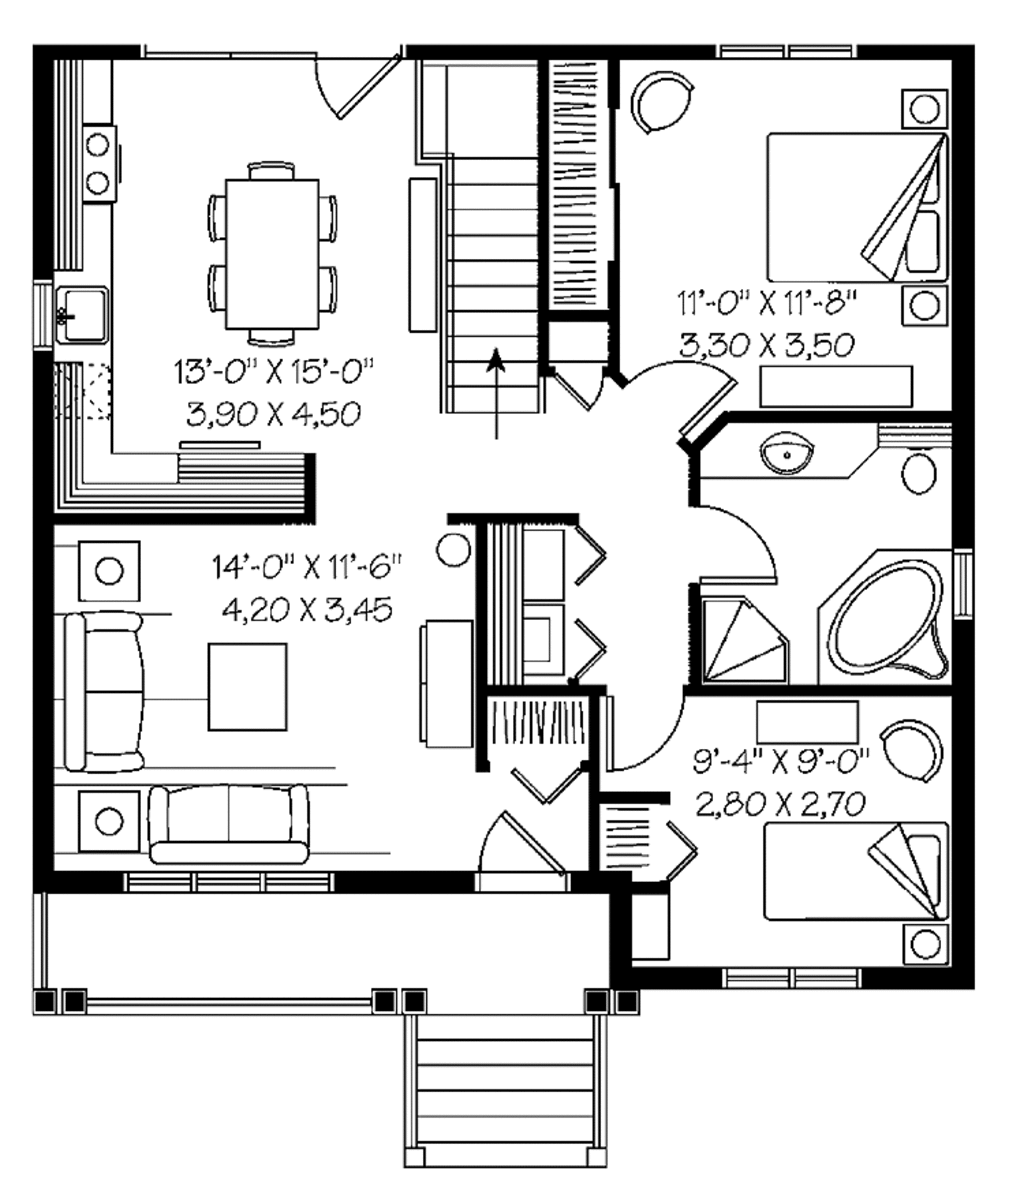bed: (754, 120, 952, 293), (754, 813, 943, 925)
dining_table: (192, 145, 358, 371)
door: (685, 494, 791, 589), (629, 356, 740, 443), (474, 807, 578, 898), (303, 49, 407, 127), (601, 694, 689, 774)
large_sofa: (63, 603, 154, 787), (141, 785, 327, 869)
sink: (47, 273, 123, 360)
stairs: (407, 62, 551, 425), (398, 983, 620, 1167)
window: (720, 954, 869, 998), (709, 40, 861, 65)
